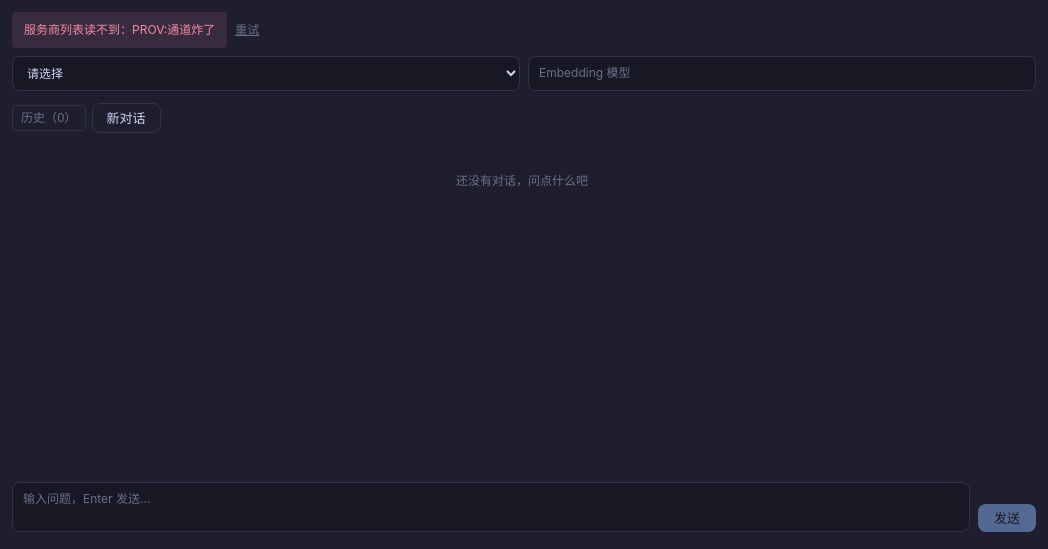
Test: 知识库问答：服务商读不到那句旁边，得有一颗真能重发这一发的键 › 失败脸有键 ⇒ 按下去真再发一发 ⇒ 到货后那句撤、下拉里回到那家服务商
This screenshot has width=1048, height=549.
Click the button with test id "kbask-providers-read-retry" at point(247, 30), box [235,22,259,38]
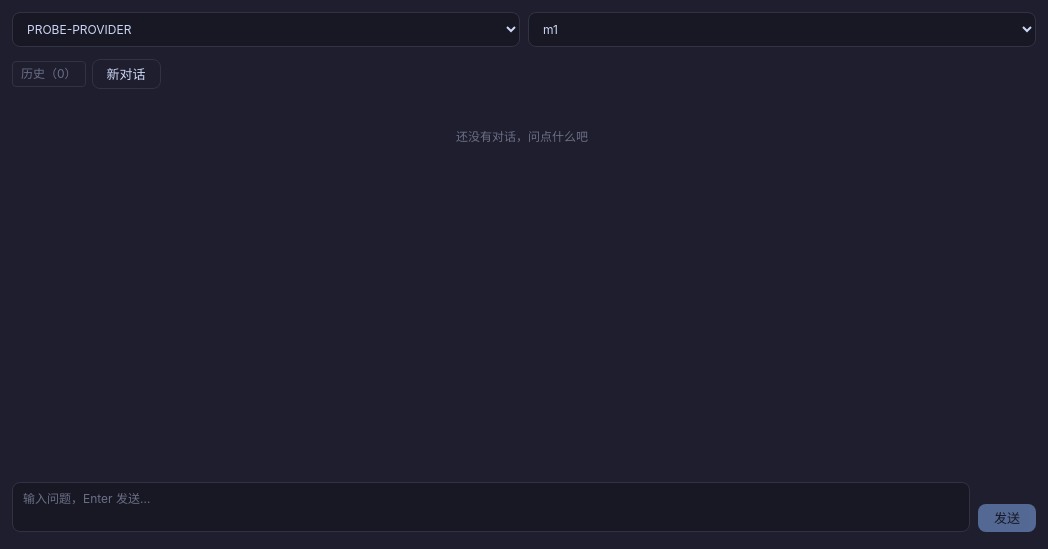
Expected: the button with test id "kbask-providers-read-retry" is gone
